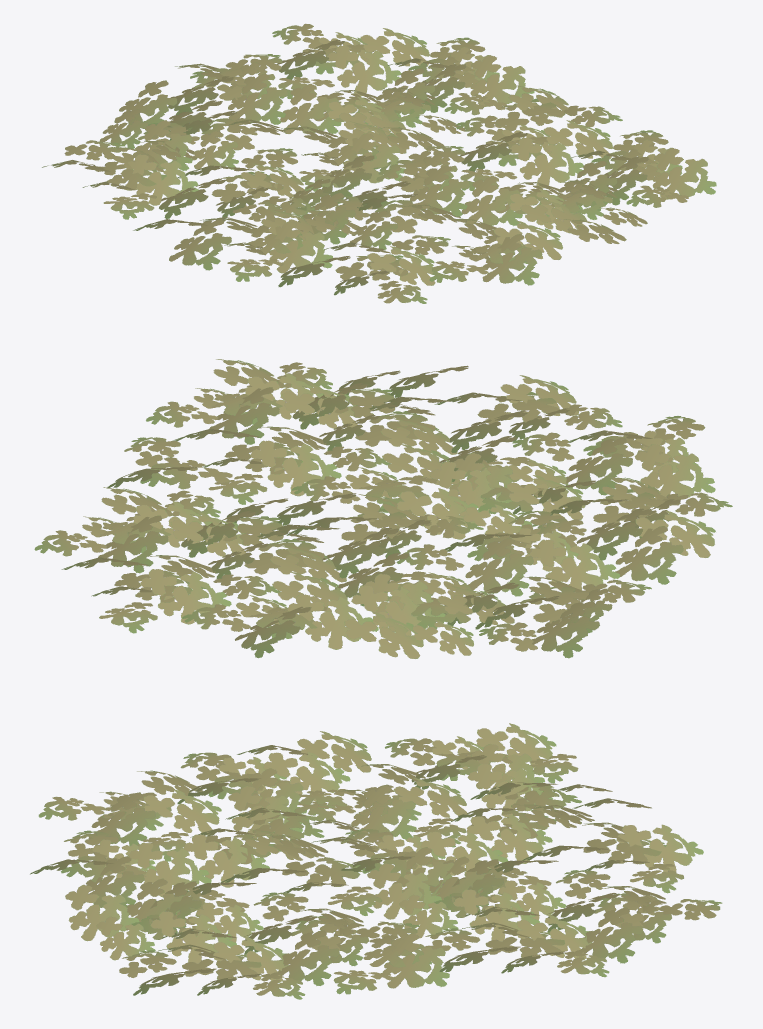
Rendered from grass.glb.
3 views of the same model, one above another, from view 1: azimuth 30°, elevation 25°; view 2: azimuth 150°, elevation 25°; view 3: azimuth 270°, elevation 25° (orthographic). The views are drawn at different scales.
Parts seen in each view (by area): view 1: grass.001; view 2: grass.001; view 3: grass.001.
Part boxes in pixels (<box>): grass.001: <box>42,23,716,303</box>; grass.001: <box>34,359,732,658</box>; grass.001: <box>30,723,722,999</box>.
Size of the model in its own units: 2.09 by 0.1313 by 2.2.
Materials: 1 (1 with a texture image).
